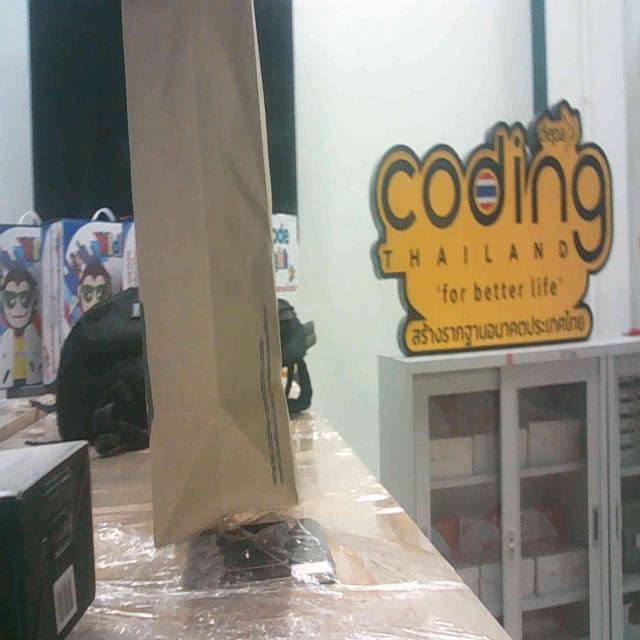bag: (116, 2, 306, 526)
